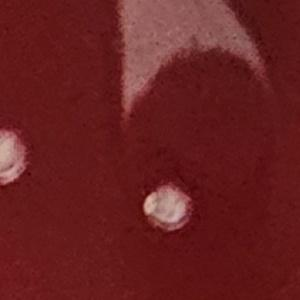colony: (134, 180, 200, 234), (0, 120, 35, 188)
